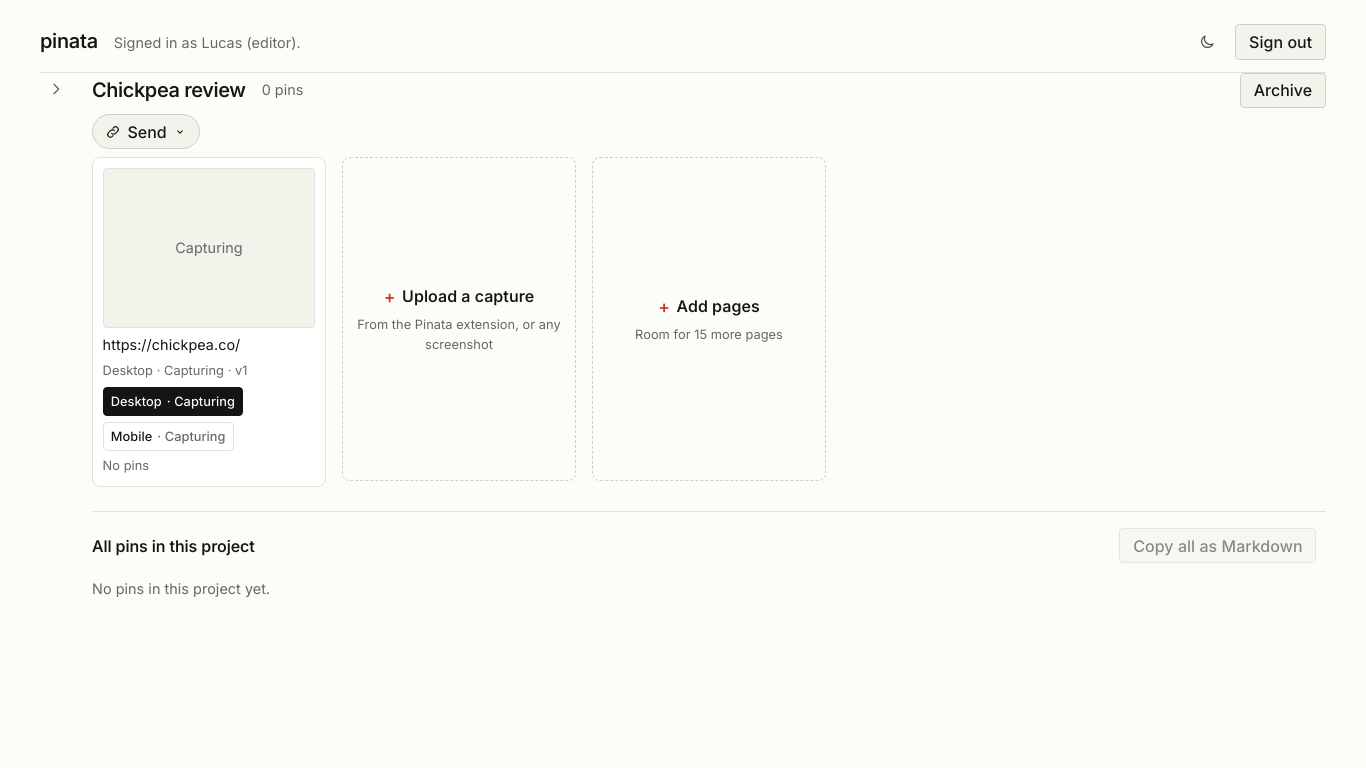
it: editor project-entry states › successful capture polling updates other projects without losing the open Send target
This screenshot has width=1366, height=768.
Click the button "Send": (146, 132) [92, 114, 200, 149]
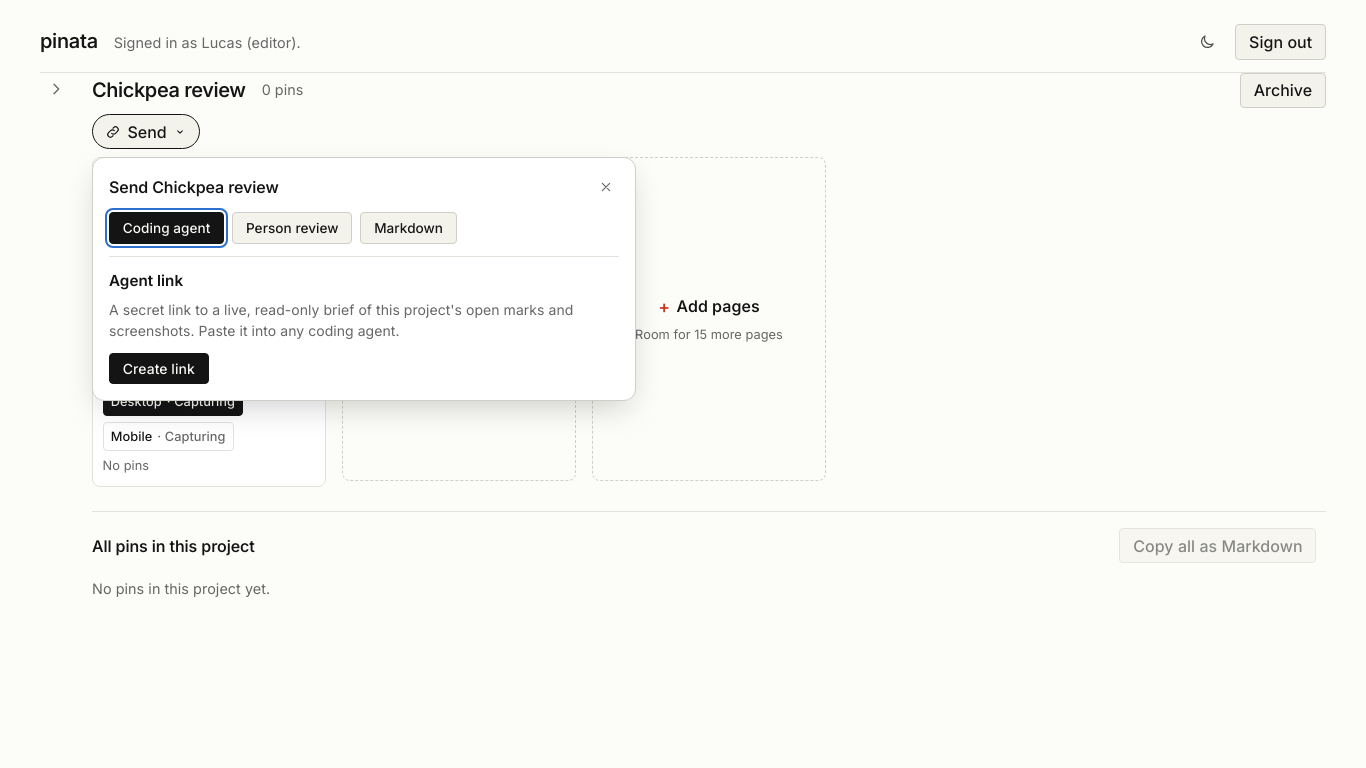
Click the button "Create link": (159, 369) [109, 353, 208, 384]
Wait 2000 ms
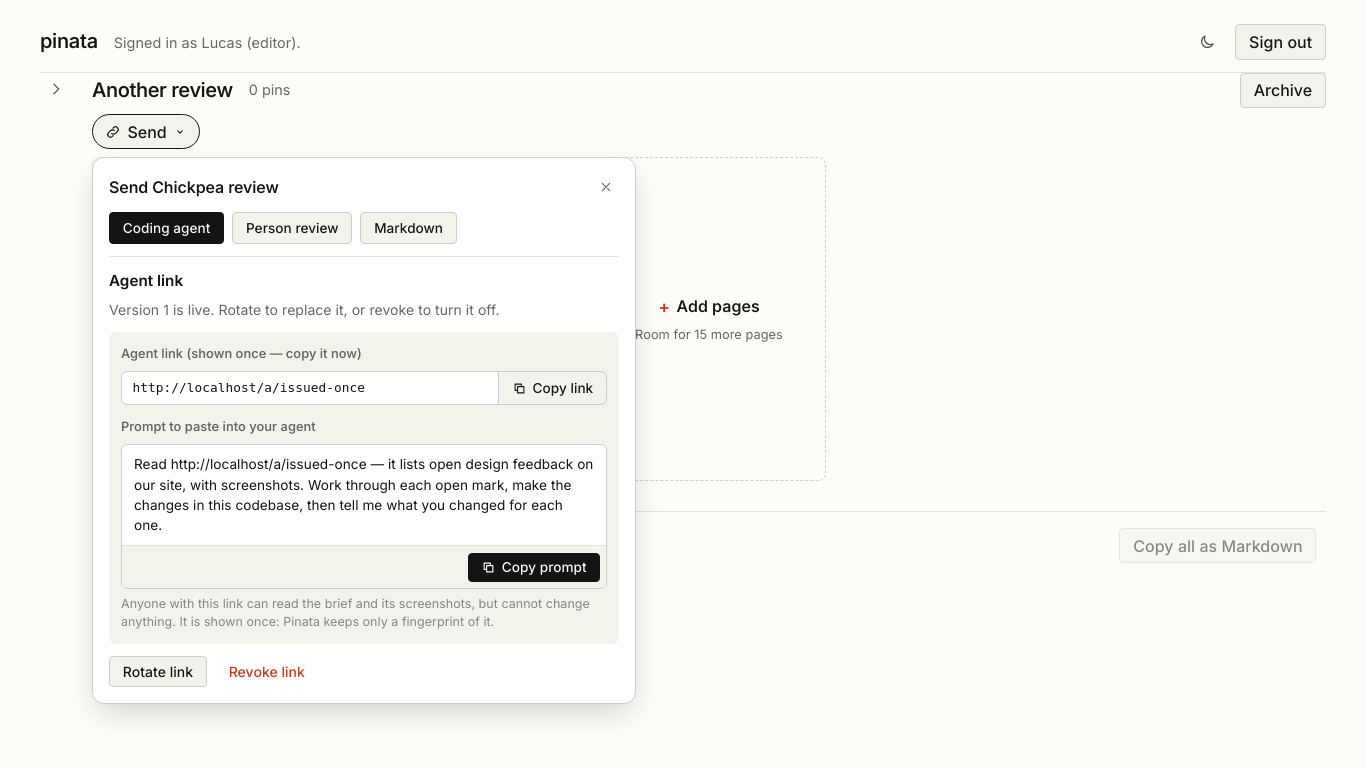
expect the dialog "Send Chickpea review" is shown: met, box [92, 157, 636, 704]
expect the heading with test id "project-title" reads "Another review": met, box [92, 78, 233, 102]
Click the button named "Close Send": (606, 187) [593, 174, 619, 200]
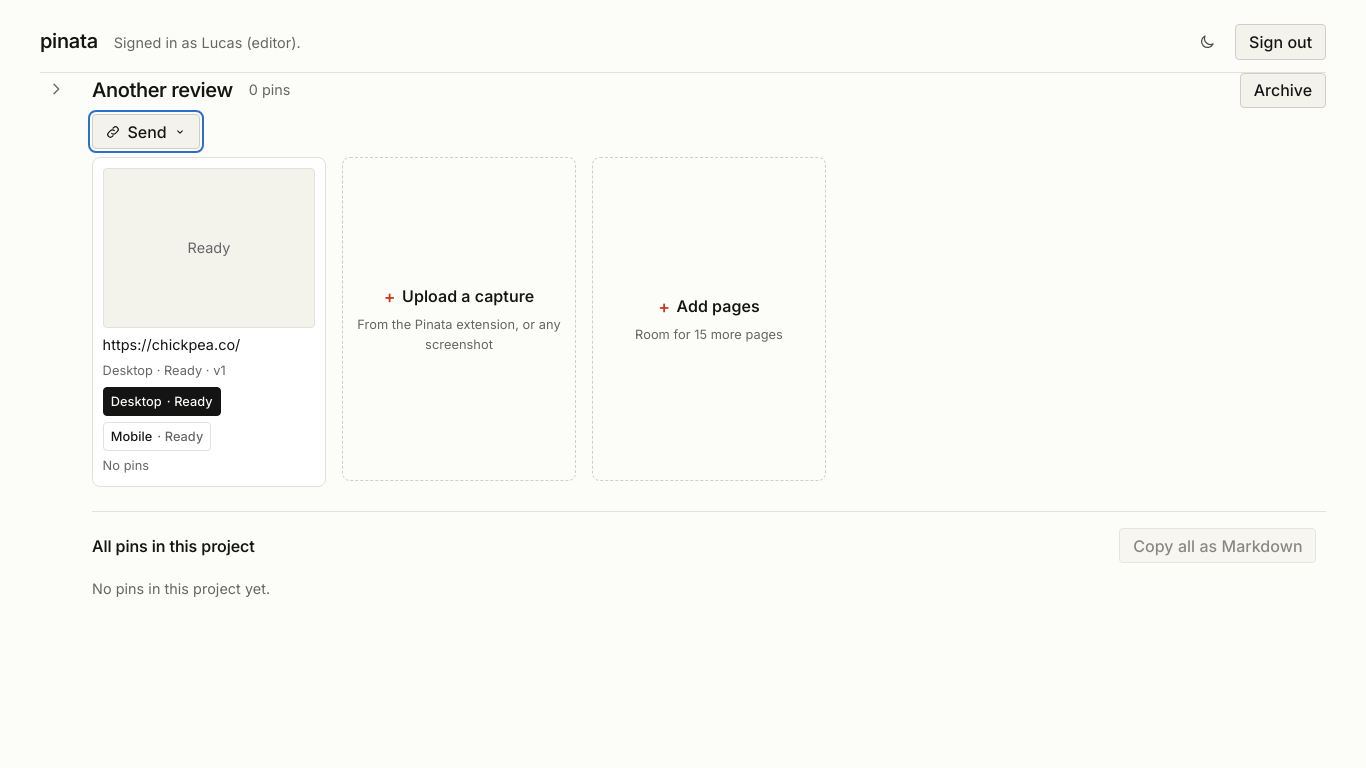
expect the heading with test id "project-title" reads "Another review": met, box [92, 78, 233, 102]
expect the label labelled "Agent link (shown once" is gone: met
Click the button "Send": (146, 132) [92, 114, 200, 149]
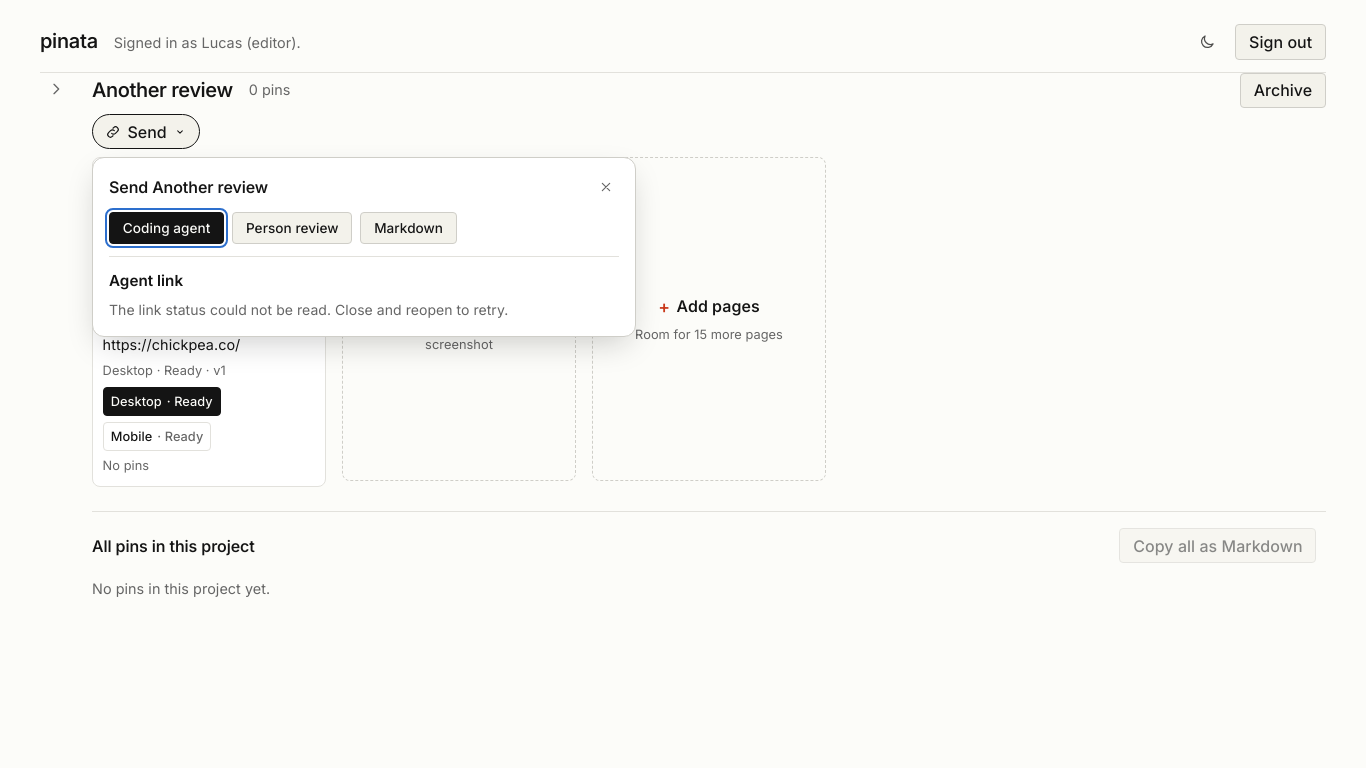
expect the dialog "Send Another review" is shown: met, box [92, 157, 636, 337]
